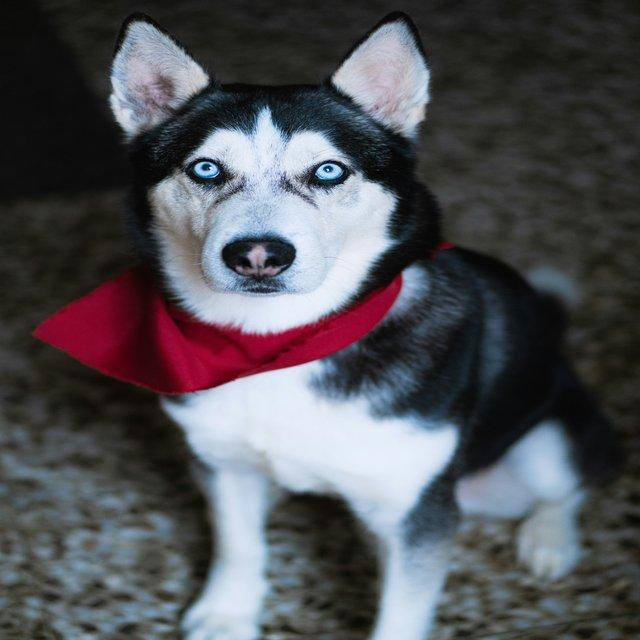husky: (100, 8, 621, 638)
